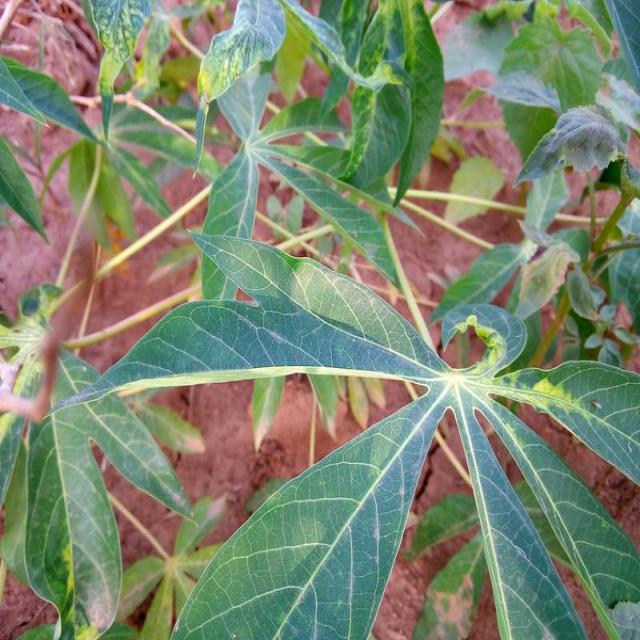cassava leaf: (37, 226, 638, 638), (168, 381, 450, 638)
